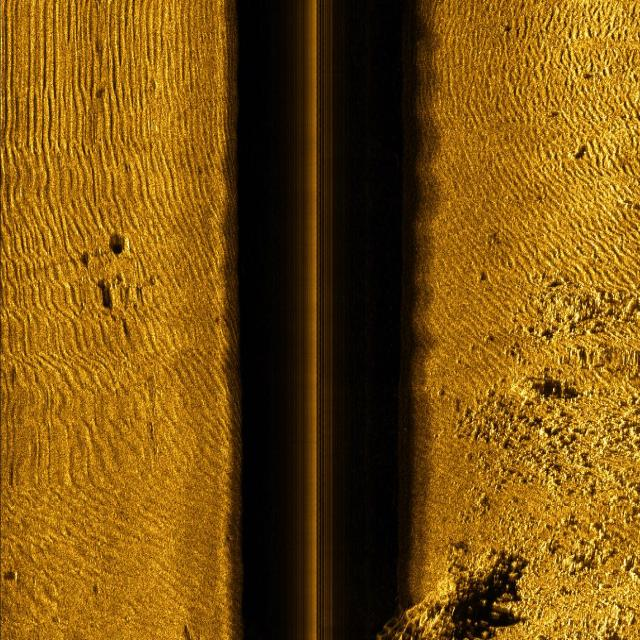artificial reef: (375, 537, 452, 640)
